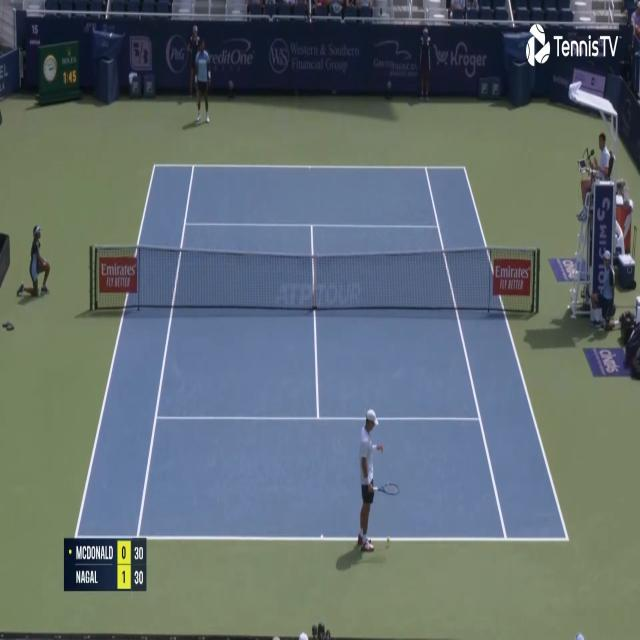tennis-player: (353, 404, 400, 560), (192, 35, 212, 125)
